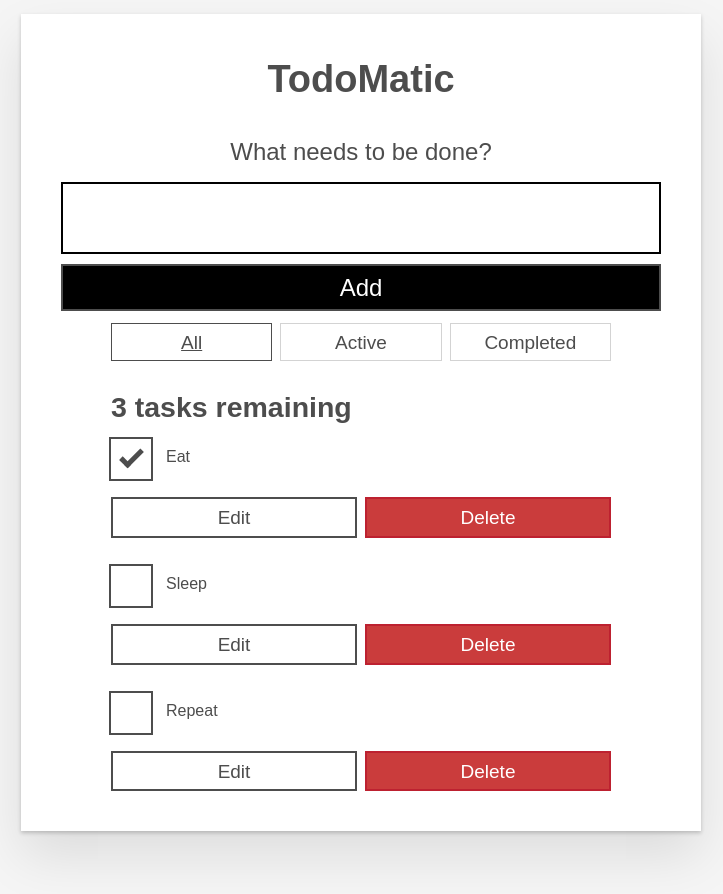
Scenario: renames a task
Click the button named "Edit Sleep" at (234, 644), box [111, 624, 357, 665]
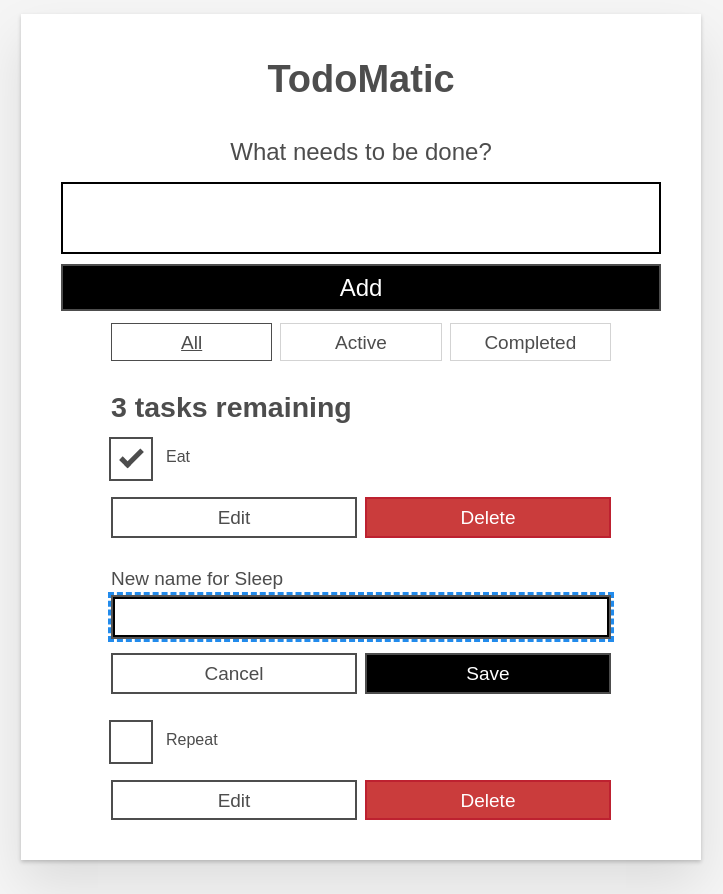
Type "Nap" into the field labelled "New name for Sleep" at (361, 617), box [111, 595, 611, 639]
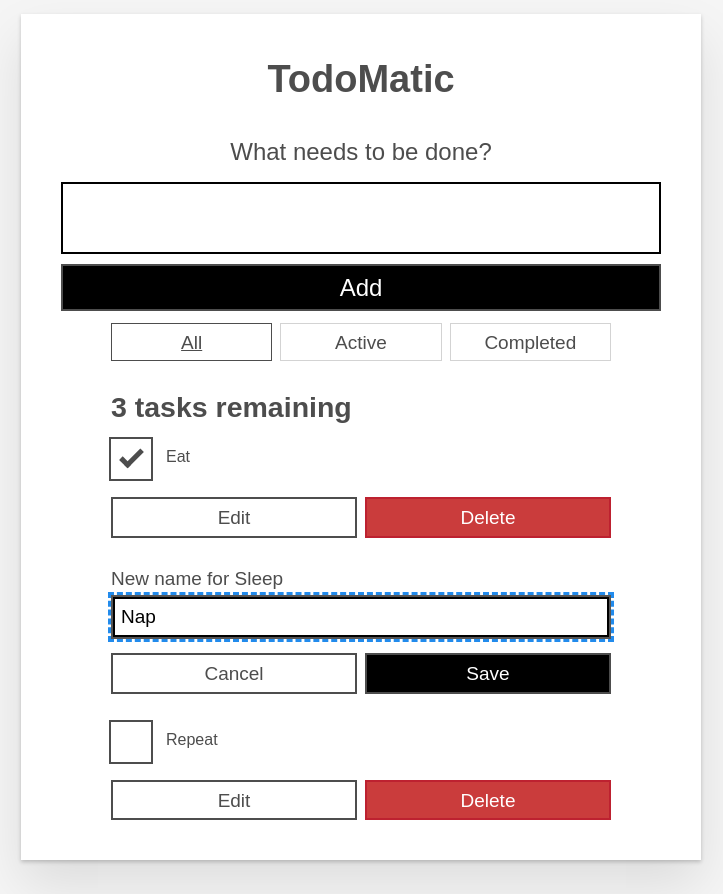
Click the button "Save" at (488, 673), box [365, 653, 611, 694]
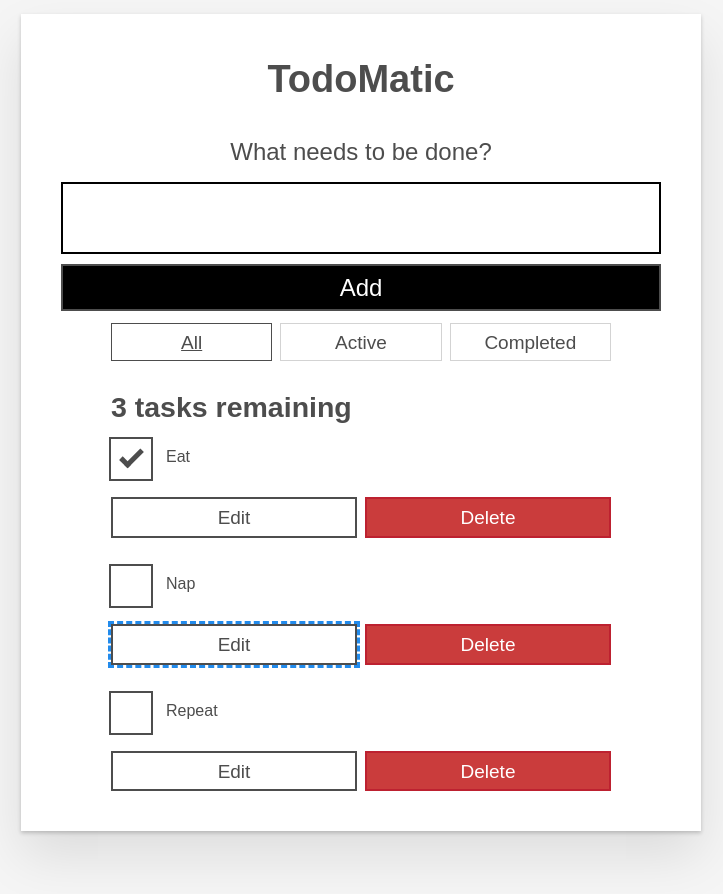
Expected: the checkbox labelled "Nap" is shown, [151, 566, 210, 599]
Expected: the label "Sleep" is gone
